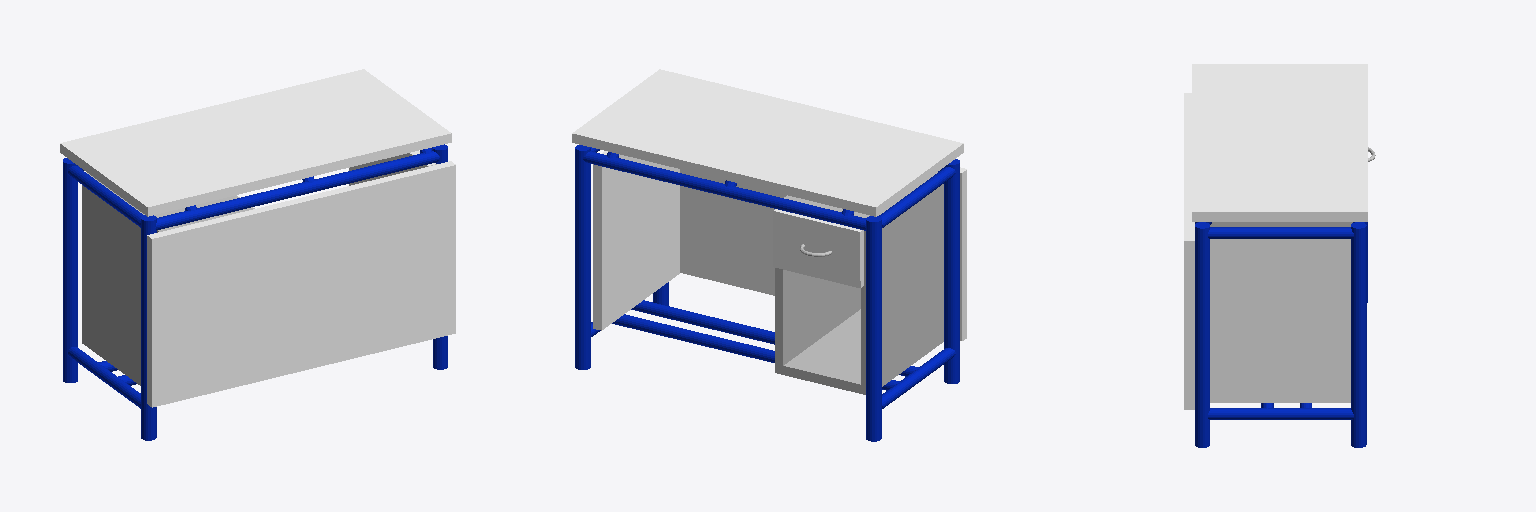
Rendered from teachersdesk.obj.
3 renders of one model, left to right at view 1: azimuth 30°, elevation 25°; view 2: azimuth 150°, elevation 25°; view 3: azimuth 270°, elevation 25°, orthographic.
Visible parts, largest first — view 1: Cube.001, Cube, Cube.002, BézierCurve.001, BézierCurve.009, BézierCurve.006, BézierCurve.004, BézierCurve.011, BézierCurve.007; view 2: Cube, Cube.004, Cube.002, Cube.001, Cube.003, Cube.008, Cube.005, BézierCurve.009, BézierCurve.008, BézierCurve, BézierCurve.006, BézierCurve.003 (+3 smaller); view 3: Cube, Cube.004, BézierCurve.008, BézierCurve.007, Cube.001, BézierCurve.005, BézierCurve.010, Cube.003.
Boxes of the visible parts, <box> form: Cube.001: <box>147,161,455,407</box>; Cube: <box>60,69,451,216</box>; Cube.002: <box>82,173,167,385</box>; BézierCurve.001: <box>155,151,439,229</box>; BézierCurve.009: <box>63,158,77,382</box>; BézierCurve.006: <box>141,215,156,440</box>; BézierCurve.004: <box>68,166,143,227</box>; BézierCurve.011: <box>68,347,140,408</box>; BézierCurve.007: <box>433,144,447,369</box>; Cube: <box>572,69,963,216</box>; Cube.004: <box>593,151,679,330</box>; Cube.002: <box>861,172,943,394</box>; Cube.001: <box>680,167,966,340</box>; Cube.003: <box>775,195,860,374</box>; Cube.008: <box>773,209,863,287</box>; Cube.005: <box>783,309,860,393</box>; BézierCurve.009: <box>866,216,881,441</box>; BézierCurve.008: <box>575,145,590,369</box>; BézierCurve: <box>583,151,865,230</box>; BézierCurve.006: <box>944,159,959,383</box>; BézierCurve.003: <box>612,314,901,390</box>; Cube: <box>1192,64,1367,221</box>; Cube.004: <box>1210,239,1350,402</box>; BézierCurve.008: <box>1351,222,1366,447</box>; BézierCurve.007: <box>1195,222,1209,447</box>; Cube.001: <box>1184,93,1194,409</box>; BézierCurve.005: <box>1207,227,1353,238</box>; BézierCurve.010: <box>1207,408,1353,419</box>; Cube.003: <box>1210,222,1352,226</box>.
Size of the model in its own units: 4.01 by 2.96 by 2.18.